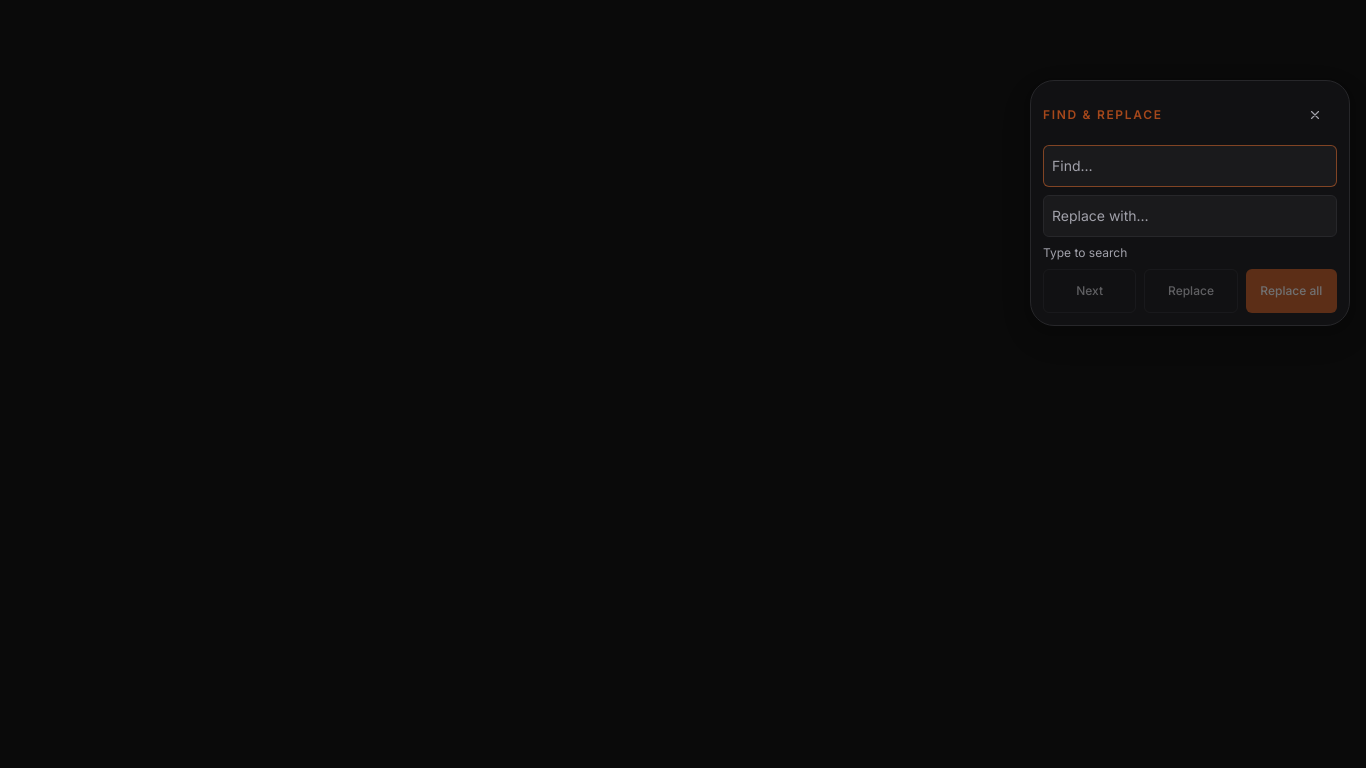
Scenario: FindReplacePanel › counts matches across all text items, case-insensitively
Type "MILK" into the search field labelled "Find". click: [1190, 166]
box: [1043,145,1337,187]
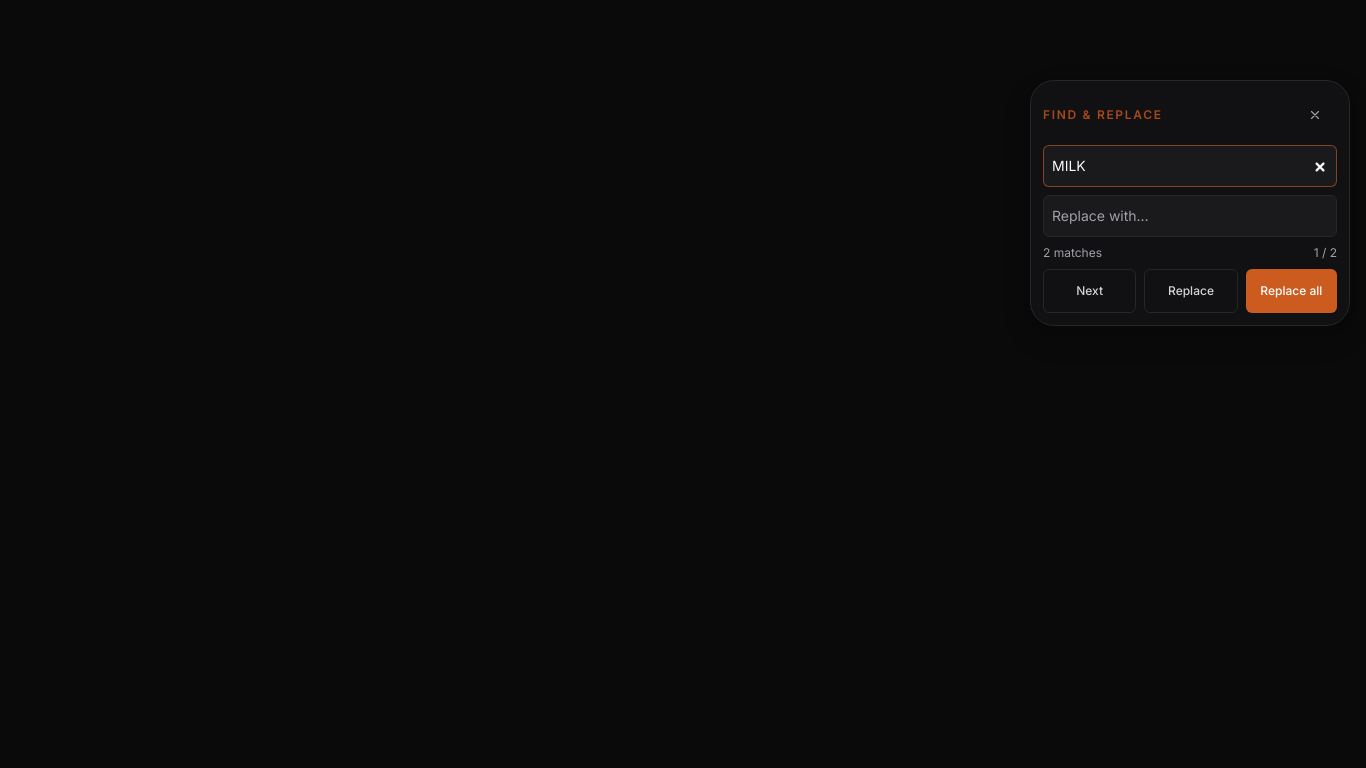
Expected: the text "2 matches" is shown, [1043,245,1102,261]
